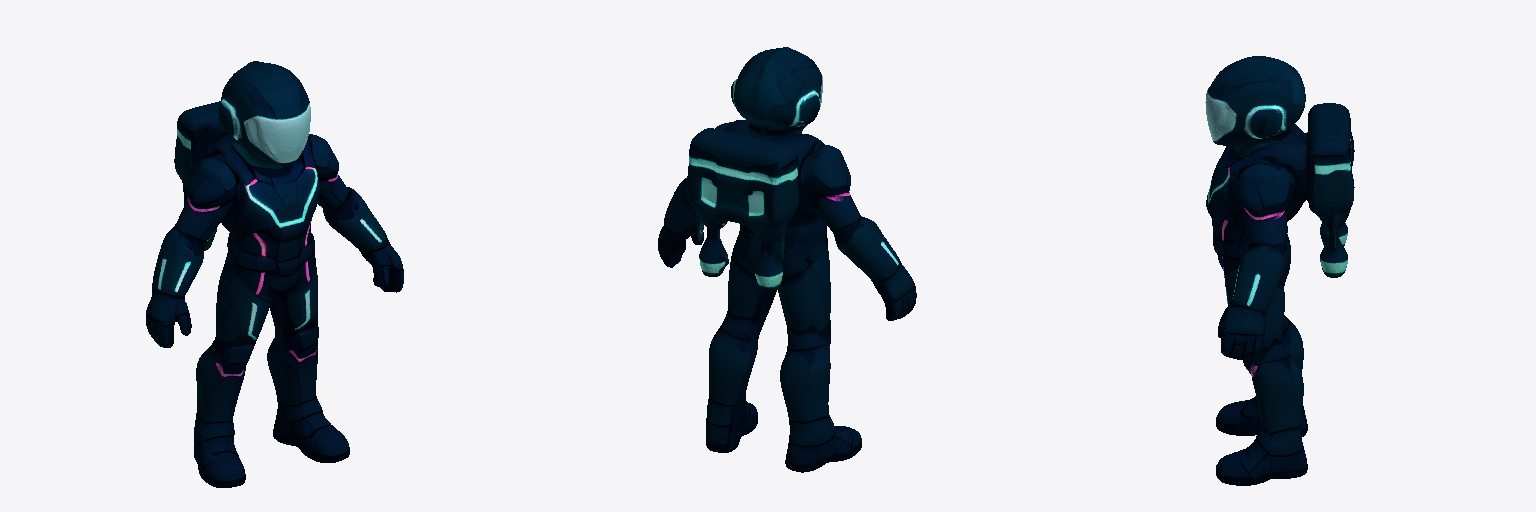
The picture shows the model from 3 angles: view 1: azimuth 30°, elevation 25°; view 2: azimuth 150°, elevation 25°; view 3: azimuth 270°, elevation 25°; orthographic projection.
Visible parts, largest first — view 1: textured_mesh; view 2: textured_mesh; view 3: textured_mesh.
Part boxes in pixels (left/top/right/bottom): textured_mesh: left=146, top=61, right=403, bottom=487; textured_mesh: left=658, top=47, right=916, bottom=472; textured_mesh: left=1205, top=56, right=1354, bottom=485.
Size of the model in its own units: 1.3 by 1.99 by 0.6799.
1 materials, 1 textured.